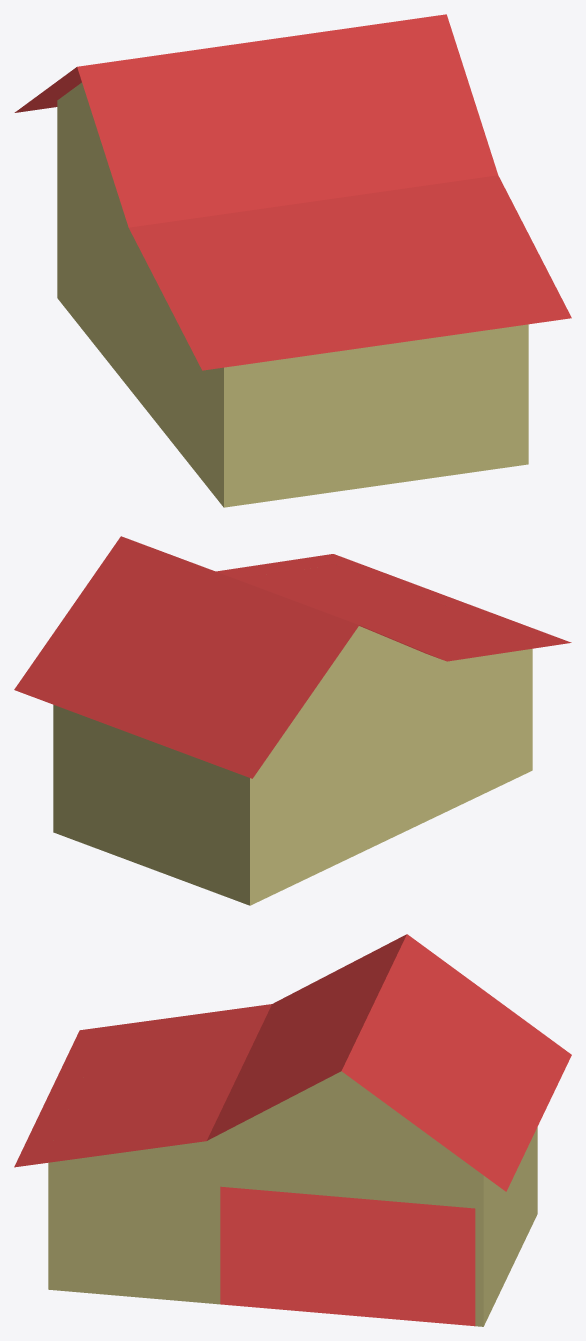
The picture shows the model from 3 angles, top to bottom: view 1: azimuth 30°, elevation 25°; view 2: azimuth 150°, elevation 25°; view 3: azimuth 270°, elevation 25°; orthographic projection. The views are drawn at different scales.
Bounding box in the file's own units: 21.9 × 28.81 × 14.59.
